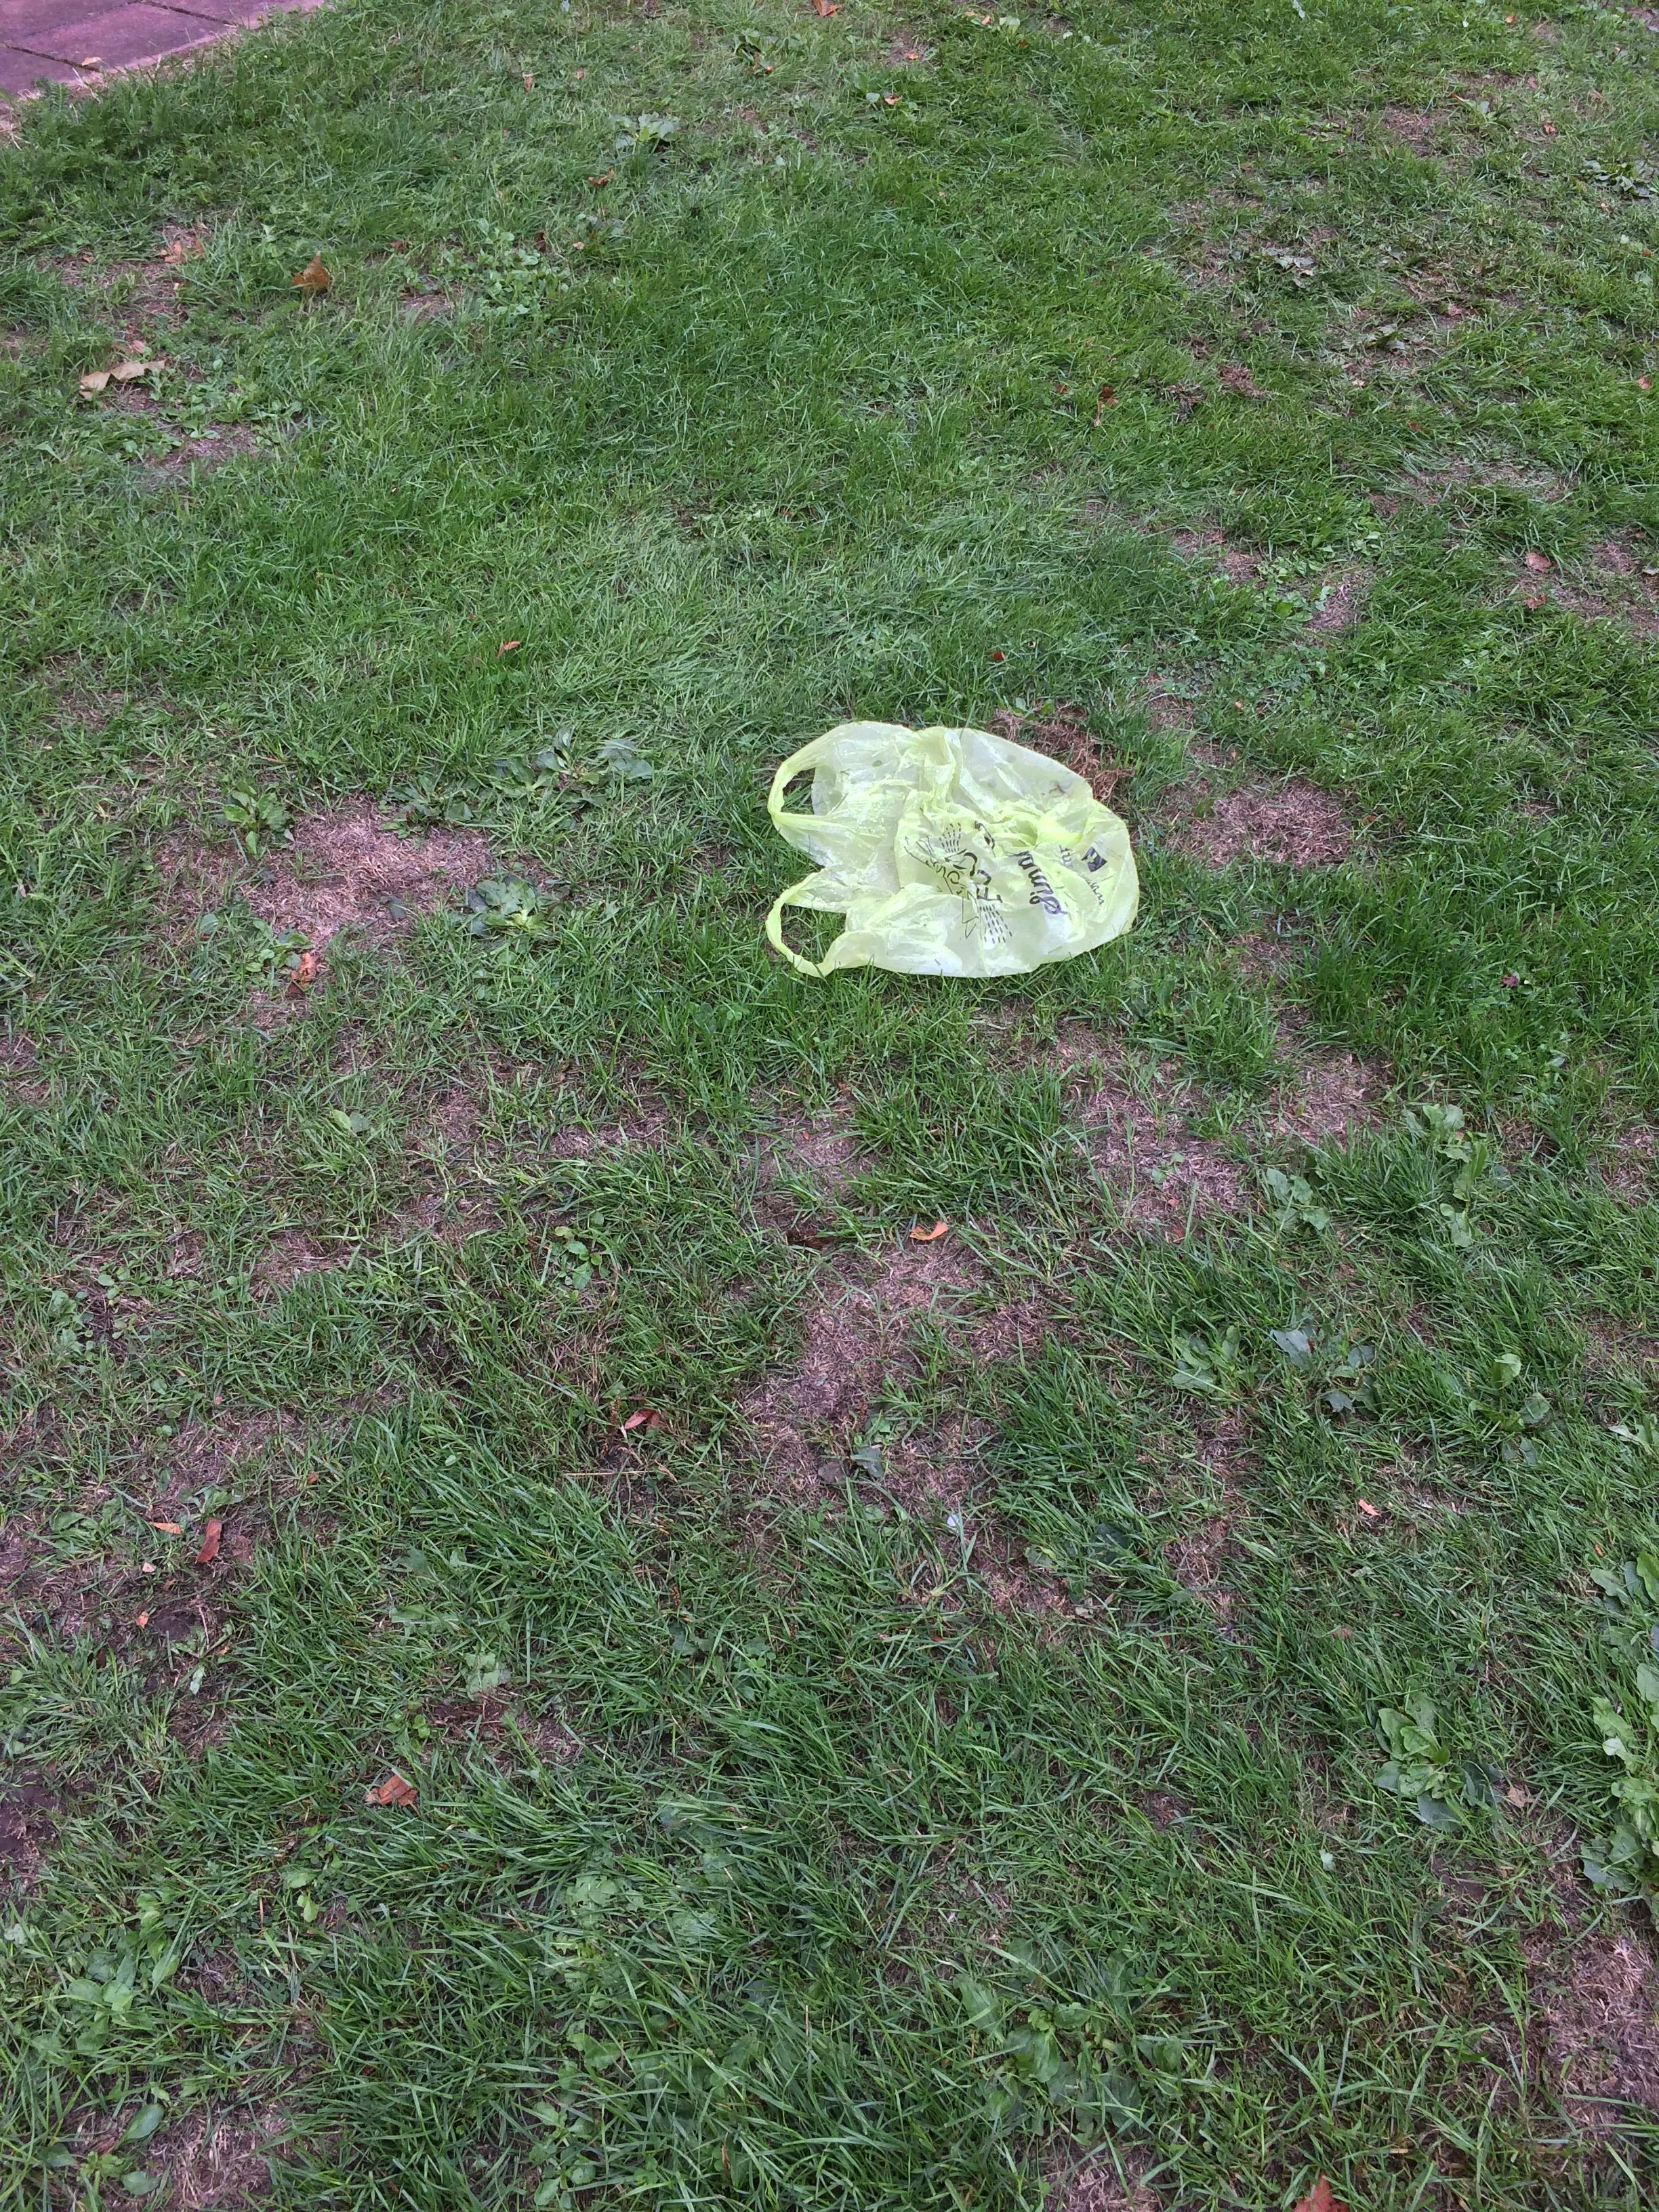Trash: (765, 721, 1138, 974)
